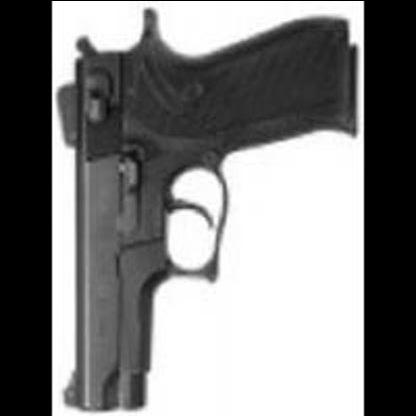weapon: (55, 8, 357, 412)
